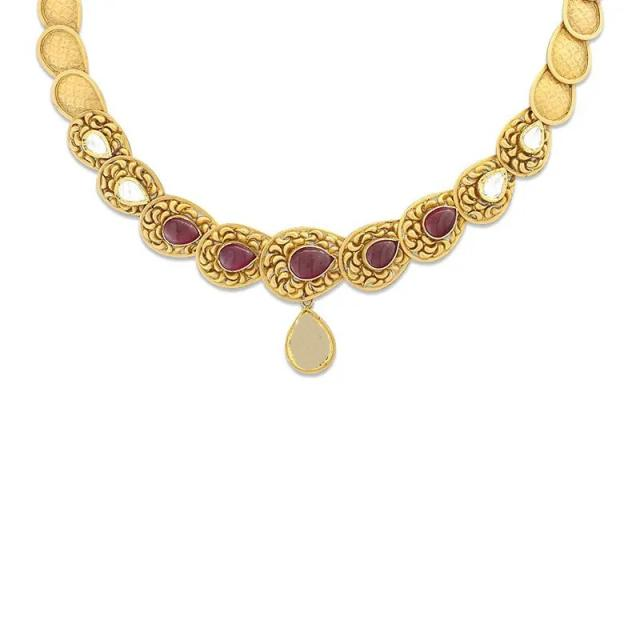missing gem: (290, 313, 330, 370)
